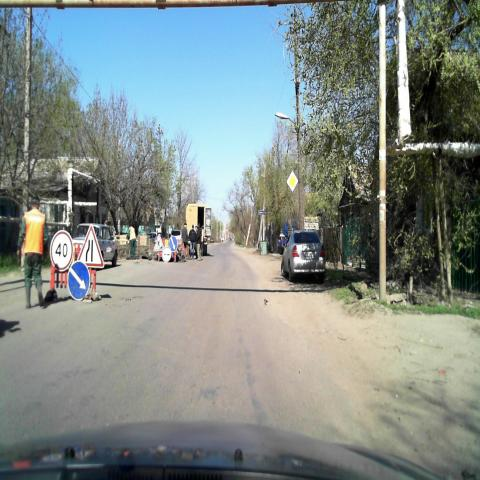1_20_3: (77, 224, 102, 268)
1_25: (153, 233, 165, 253)
